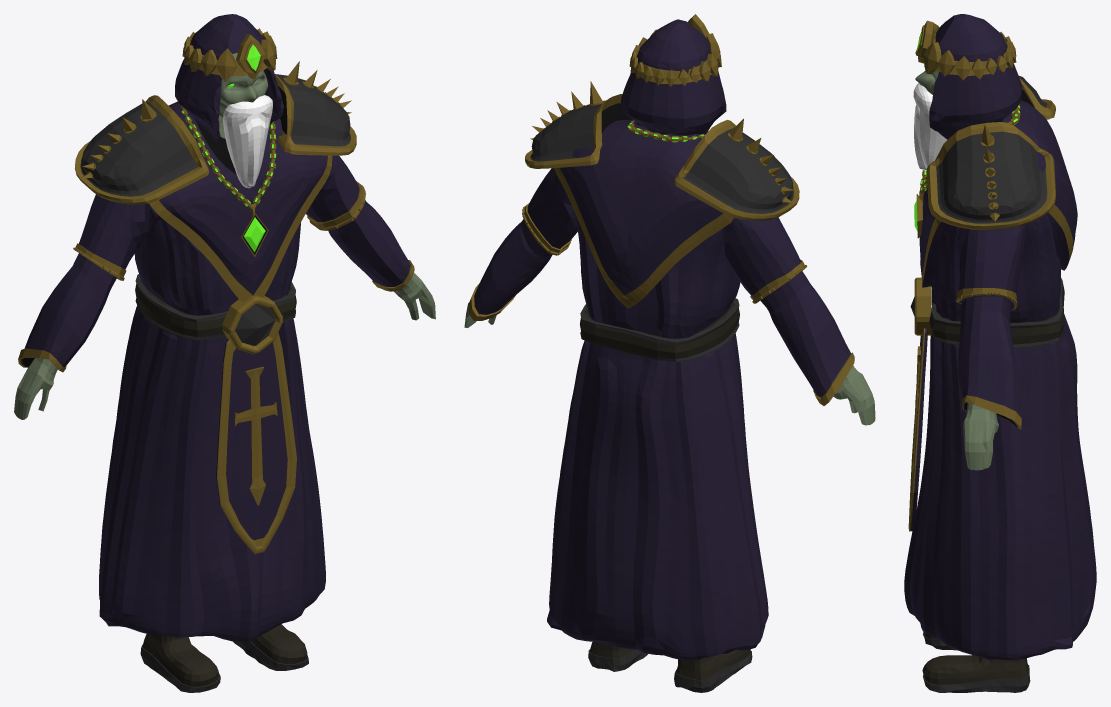
The model's file is ARMAND_BASEMESH.fbx.
3 renders of one model, left to right at view 1: azimuth 30°, elevation 25°; view 2: azimuth 150°, elevation 25°; view 3: azimuth 270°, elevation 25°, orthographic. The views are drawn at different scales.
Visible parts, largest first — view 1: szata, detale, manekin, Glowa; view 2: szata, manekin, detale; view 3: szata, detale, manekin, Glowa.
Part boxes in pixels (x1,y1,x2,y2): szata: (99, 14, 332, 692); detale: (75, 28, 356, 256); manekin: (14, 115, 435, 650); Glowa: (219, 53, 272, 188); szata: (547, 19, 768, 692); manekin: (464, 168, 875, 425); detale: (525, 14, 799, 220); szata: (904, 14, 1096, 692); detale: (914, 20, 1055, 238); manekin: (949, 224, 1027, 470); Glowa: (913, 65, 946, 170).
Bounding box in the file's own units: 116 × 175 × 46.98.
